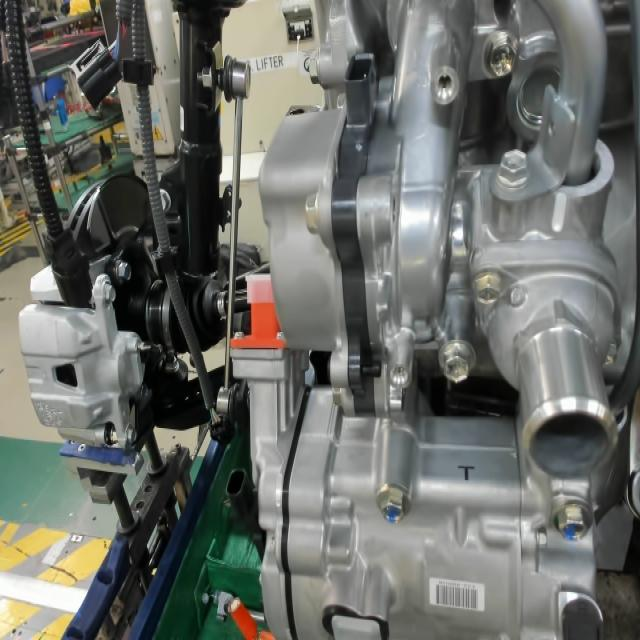Compressor-T: (456, 462, 476, 485)
